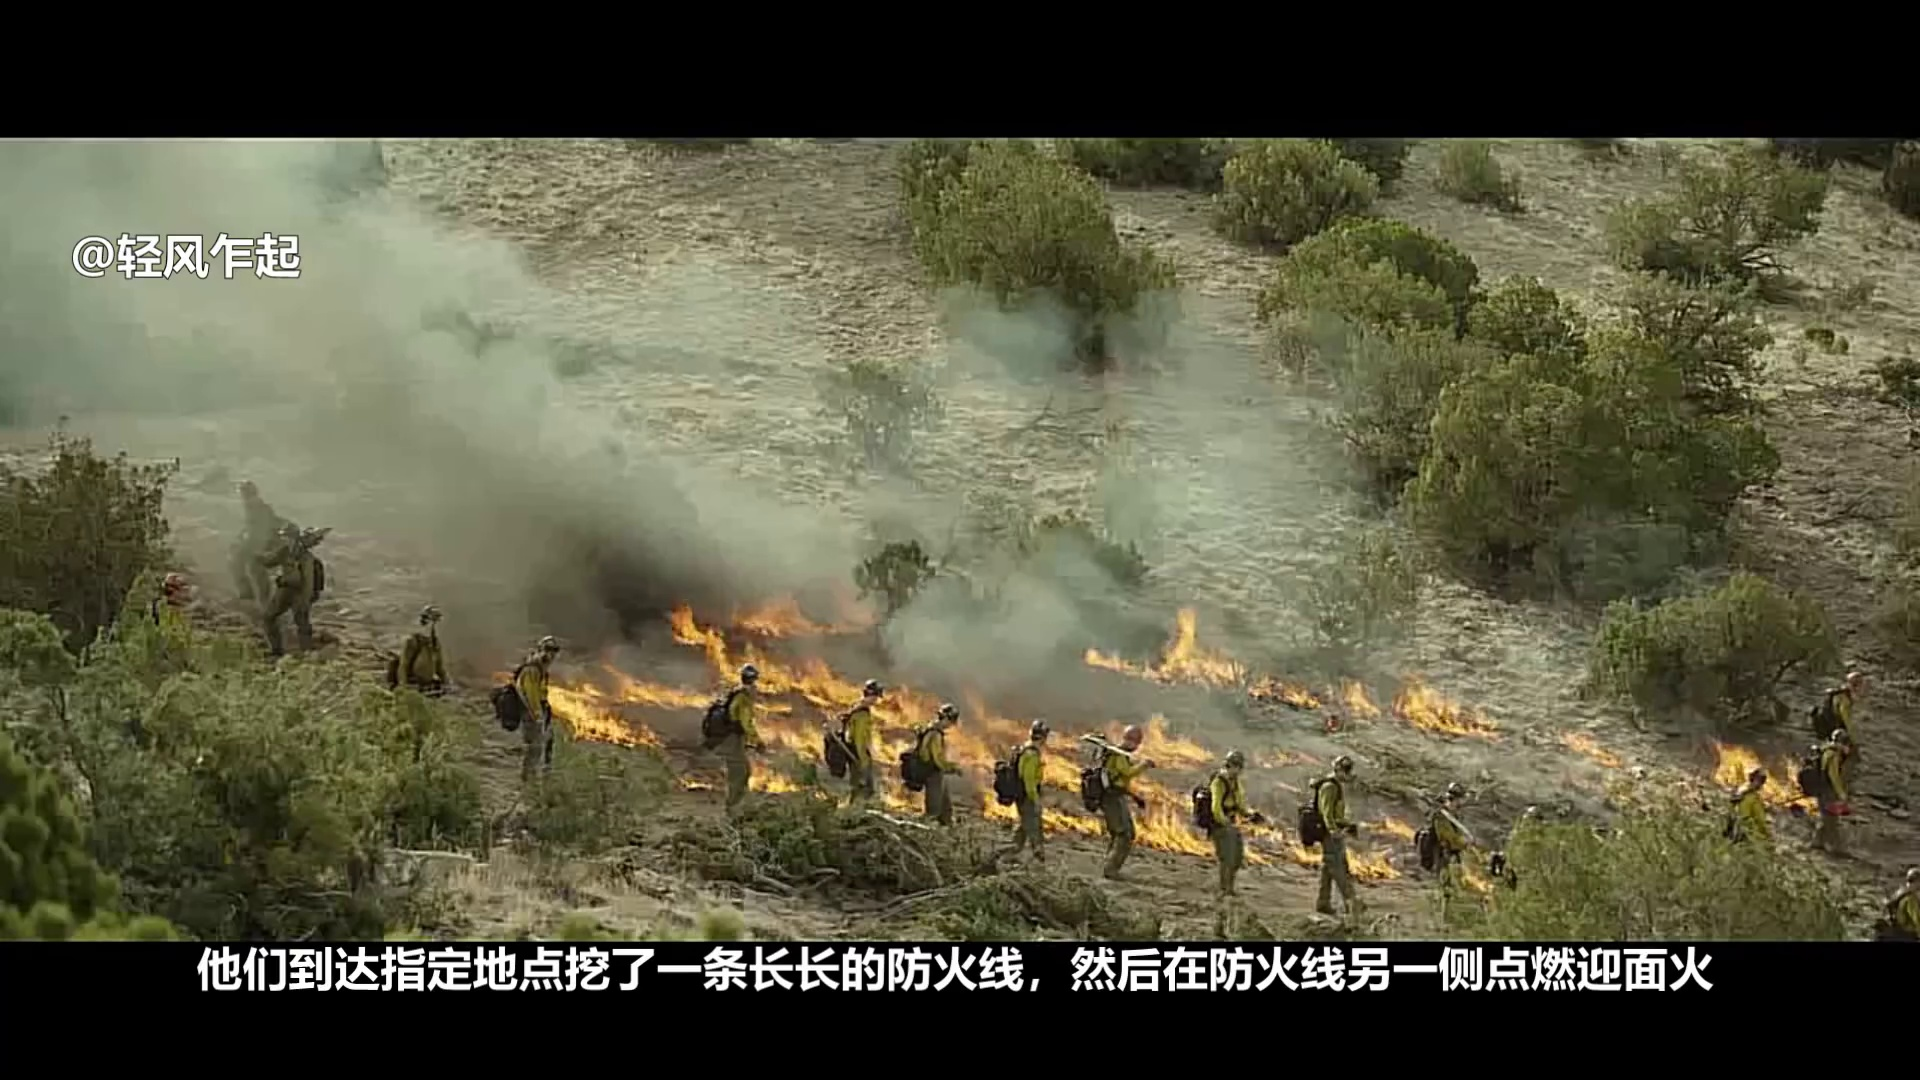fire: (556, 695, 624, 738), (1400, 688, 1460, 727), (1724, 742, 1766, 791), (808, 662, 853, 704), (1142, 819, 1197, 851), (1174, 609, 1197, 661), (779, 723, 818, 752), (1349, 847, 1387, 876), (676, 600, 696, 646), (647, 690, 709, 704), (1043, 758, 1073, 785), (750, 771, 791, 789)
